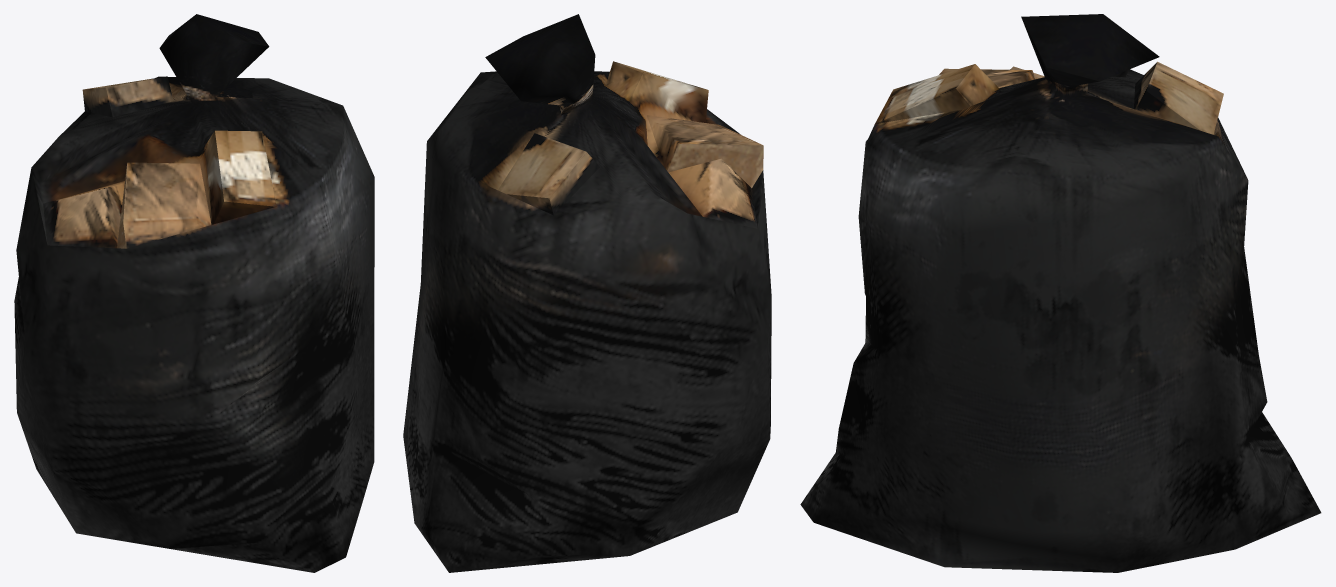
Rendered from CP_Trash_Bag_03.fbx.
3 renders of one model, left to right at view 1: azimuth 30°, elevation 25°; view 2: azimuth 150°, elevation 25°; view 3: azimuth 270°, elevation 25°, orthographic. The views are drawn at different scales.
Parts seen in each view (by area): view 1: CP_Trash_Bag_03_LOD0; view 2: CP_Trash_Bag_03_LOD0; view 3: CP_Trash_Bag_03_LOD0.
Boxes of the visible parts, x1=… form: CP_Trash_Bag_03_LOD0: x1=14, y1=14, x2=374, y2=572; CP_Trash_Bag_03_LOD0: x1=403, y1=14, x2=771, y2=572; CP_Trash_Bag_03_LOD0: x1=800, y1=14, x2=1321, y2=572.
Size of what is drawn, in the model's own units: 65.73 by 87.47 by 82.2.
